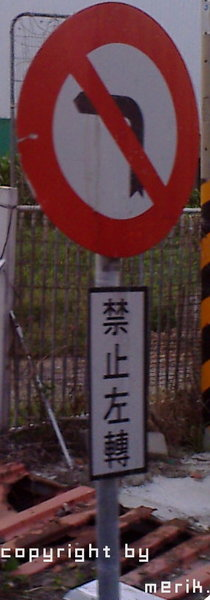No_left_turn: (13, 3, 200, 257)
